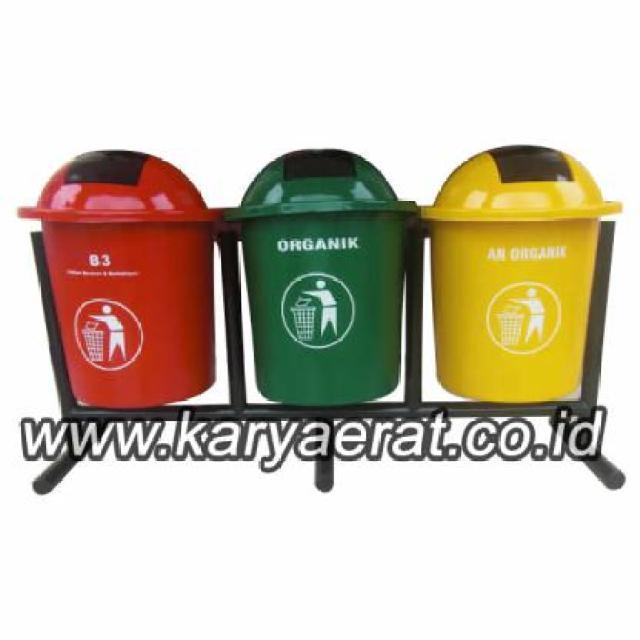garbage container: (415, 133, 629, 421), (13, 144, 233, 410), (222, 141, 423, 414)
